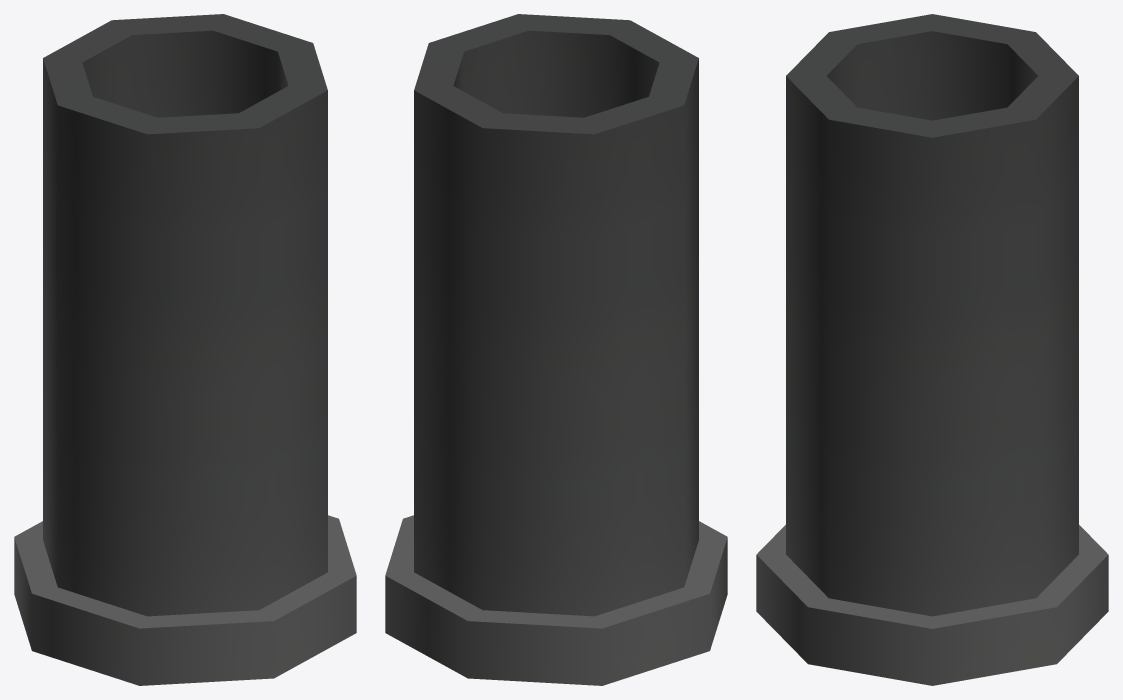
Rendered from Chimney_1_B_2.glb.
3 renders of one model, left to right at view 1: azimuth 30°, elevation 25°; view 2: azimuth 150°, elevation 25°; view 3: azimuth 270°, elevation 25°, orthographic.
Parts seen in each view (by area): view 1: Chimney_1_B_2; view 2: Chimney_1_B_2; view 3: Chimney_1_B_2.
Boxes of the visible parts, x1,y1,x2,y2 form: Chimney_1_B_2: [14, 14, 356, 685]; Chimney_1_B_2: [385, 14, 727, 685]; Chimney_1_B_2: [756, 14, 1108, 685].
Size of the model in its own units: 0.6178 by 1.04 by 0.6178.
Materials: 1 (1 with a texture image).
